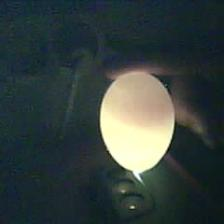infertile: (98, 71, 176, 174)
